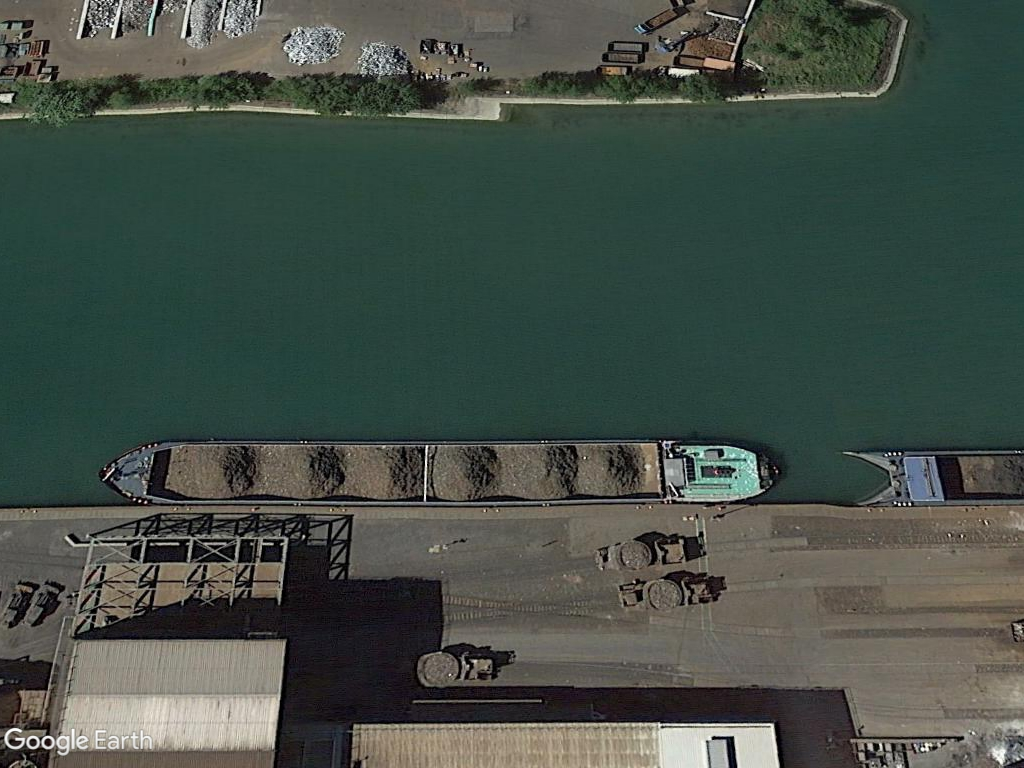boat: (100, 436, 786, 505)
